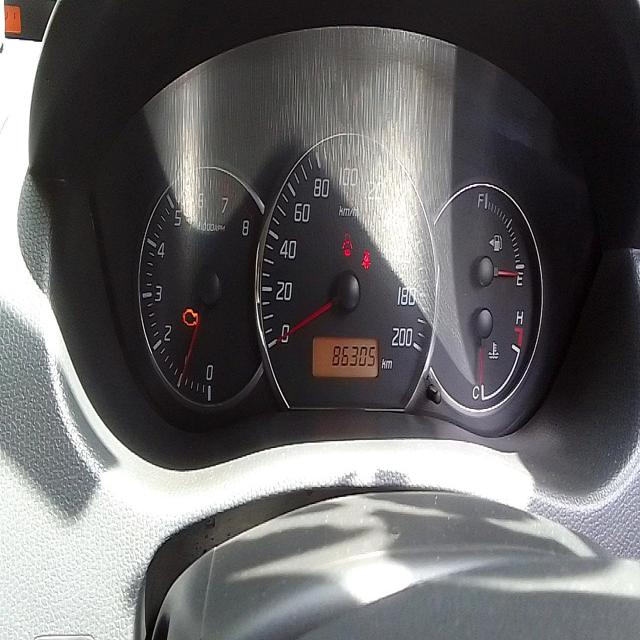odometer: (328, 340, 377, 374)
